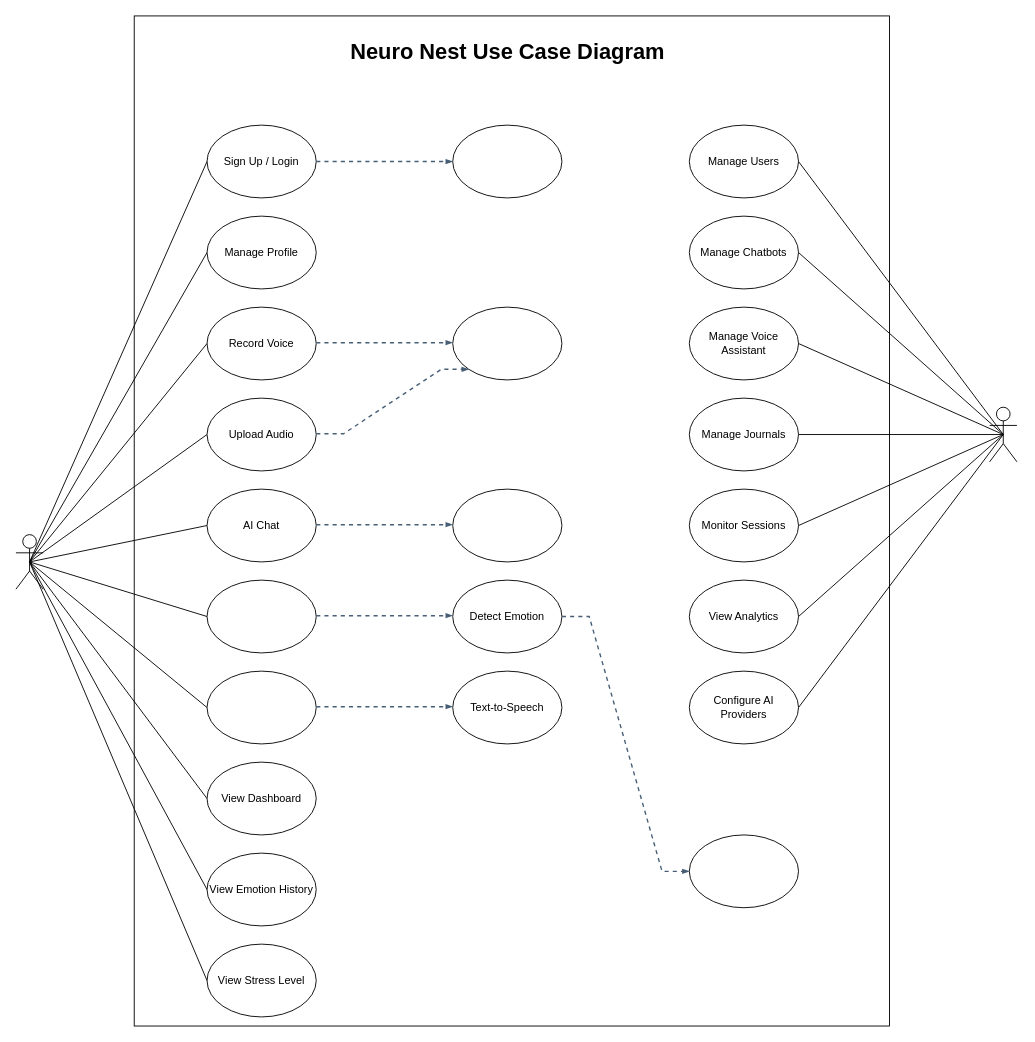
Some shapes in this 1035 by 1042 pixel diagram are drawn without their labels. The shapes that lost their labels are listed below. From the top down, each one's box as (x1, y1, x2, y2) in pixels, then its label:
(452, 124, 562, 198): Verify Email
(452, 306, 562, 380): Speech to Text
(989, 406, 1017, 462): Admin
(452, 488, 562, 562): Generate AI Response
(15, 534, 43, 589): User
(206, 579, 316, 653): Voice Assistant
(206, 670, 316, 744): Receive AI Response
(688, 834, 799, 908): Emotion Analysis
